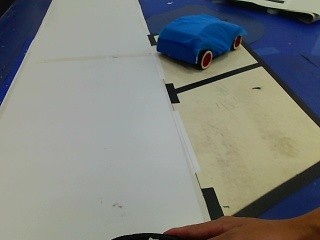car: (155, 10, 246, 73)
